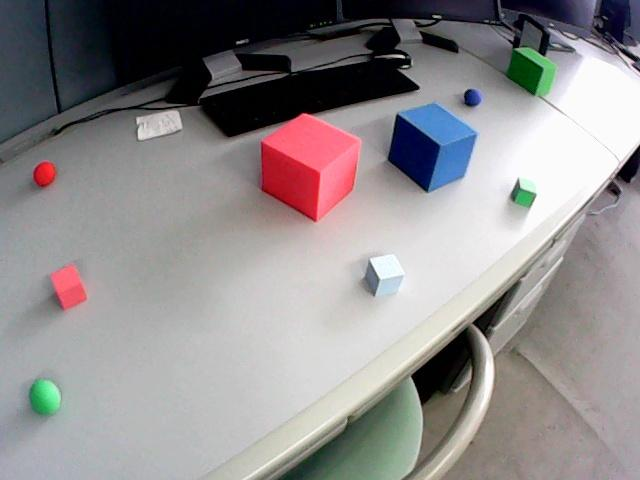blue_block: (389, 103, 477, 191), (365, 254, 404, 295)
red_block: (261, 114, 361, 220), (51, 264, 86, 309)
